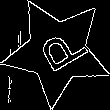P_SW: (27, 22, 87, 80)
